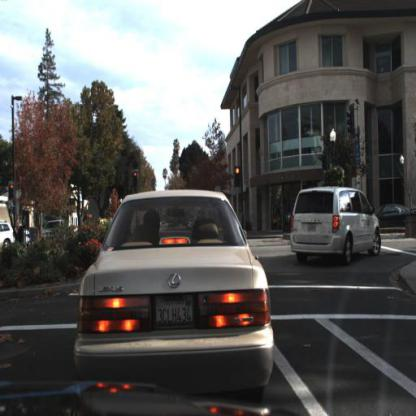car: (82, 187, 267, 385), (289, 184, 383, 270), (368, 201, 416, 234), (41, 216, 68, 250), (1, 220, 17, 248)
pedestrian: (13, 219, 20, 248)
trafficLight-Red: (234, 165, 242, 190), (8, 181, 16, 201), (131, 171, 139, 189)
